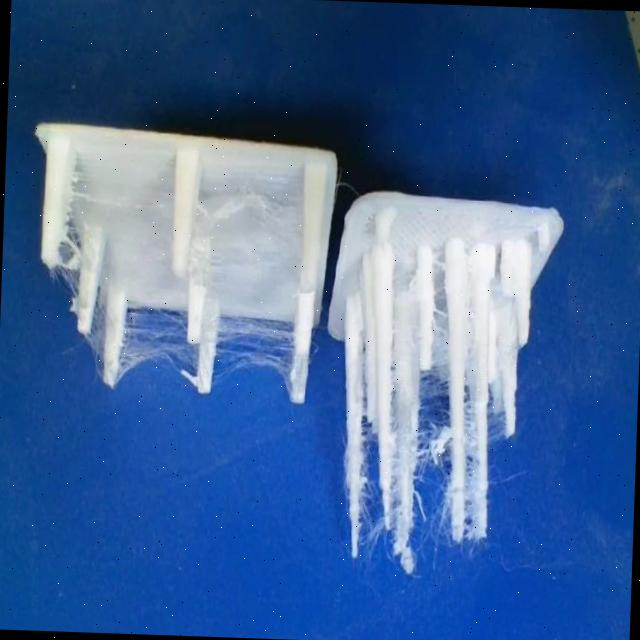stringing: (196, 181, 302, 266), (210, 318, 293, 391), (120, 308, 197, 377), (359, 434, 389, 555), (56, 221, 84, 305), (419, 472, 452, 536), (417, 415, 451, 475), (88, 283, 107, 362), (465, 379, 474, 532), (489, 387, 506, 448), (421, 373, 448, 411)
